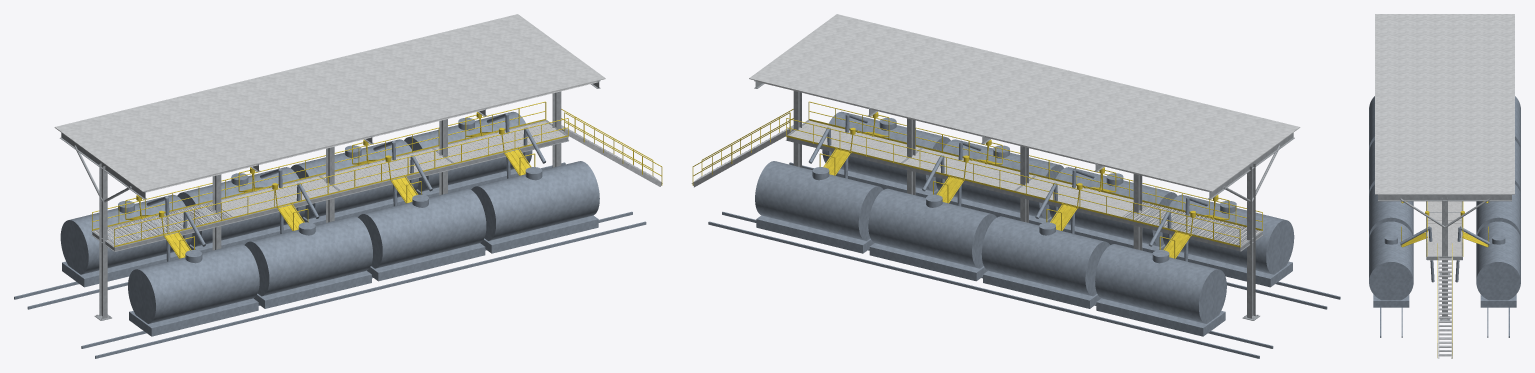
The model's file is rail-loading-gantries.glb.
3 views of the same model, side by side, from view 1: azimuth 30°, elevation 25°; view 2: azimuth 150°, elevation 25°; view 3: azimuth 270°, elevation 25° (orthographic). The views are drawn at different scales.
Visible parts, largest first — view 1: RailCars&LoadingArms(context), Canopy, LoadingPlatform, GantryFrame, Handrails, Gangways&SafetyCages, AccessStair; view 2: RailCars&LoadingArms(context), Canopy, LoadingPlatform, GantryFrame, Handrails, Gangways&SafetyCages, AccessStair; view 3: Canopy, RailCars&LoadingArms(context), GantryFrame, LoadingPlatform, AccessStair, Handrails, Gangways&SafetyCages.
Part boxes in pixels (bbox=[...]): RailCars&LoadingArms(context): bbox=[14, 111, 646, 358]; Canopy: bbox=[54, 14, 605, 192]; LoadingPlatform: bbox=[94, 121, 565, 245]; GantryFrame: bbox=[60, 80, 600, 320]; Handrails: bbox=[92, 101, 662, 247]; Gangways&SafetyCages: bbox=[125, 112, 535, 258]; AccessStair: bbox=[561, 125, 662, 186]; RailCars&LoadingArms(context): bbox=[708, 111, 1340, 358]; Canopy: bbox=[749, 14, 1300, 191]; LoadingPlatform: bbox=[789, 121, 1260, 245]; GantryFrame: bbox=[754, 80, 1294, 320]; Handrails: bbox=[692, 101, 1262, 247]; Gangways&SafetyCages: bbox=[819, 112, 1229, 258]; AccessStair: bbox=[691, 125, 793, 187]; Canopy: bbox=[1375, 14, 1514, 194]; RailCars&LoadingArms(context): bbox=[1369, 96, 1520, 337]; GantryFrame: bbox=[1378, 194, 1511, 320]; LoadingPlatform: bbox=[1427, 201, 1461, 256]; AccessStair: bbox=[1438, 257, 1452, 358]; Handrails: bbox=[1426, 201, 1463, 357]; Gangways&SafetyCages: bbox=[1401, 201, 1488, 247].
Size of the model in its own units: 37.28 by 9.5 by 10.2.
Materials: 6 (6 with a texture image).
